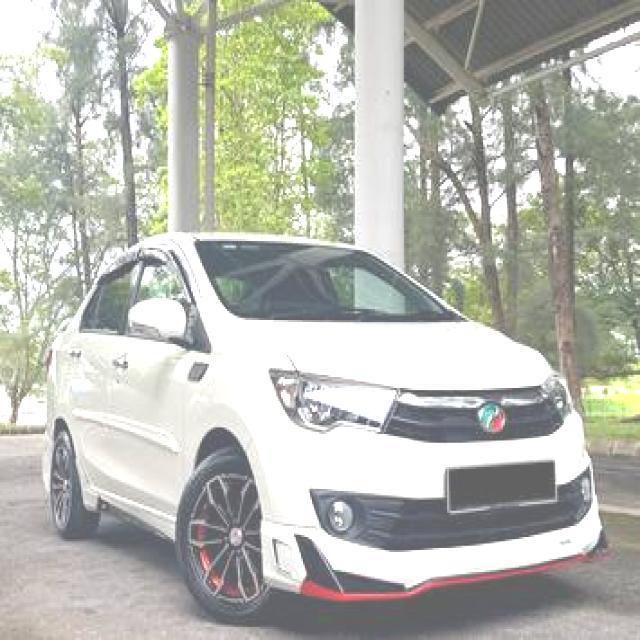PeroduaBezza: (39, 229, 609, 623)
